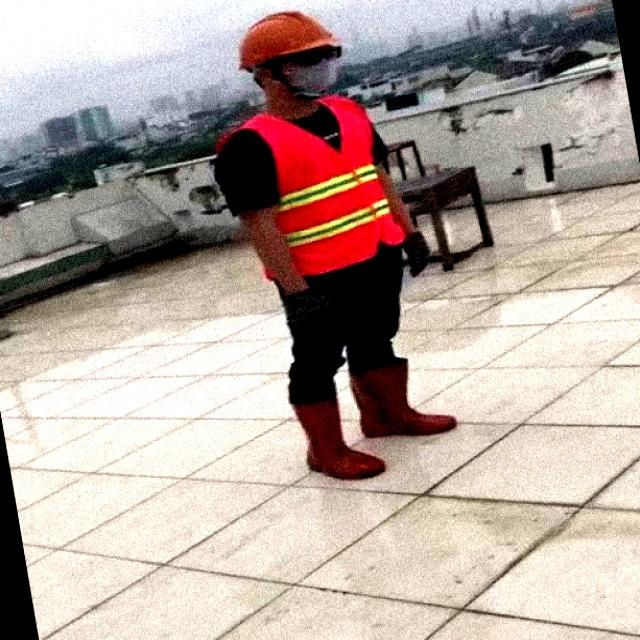helmet: (224, 6, 346, 62)
safety_vest: (231, 98, 409, 288)
